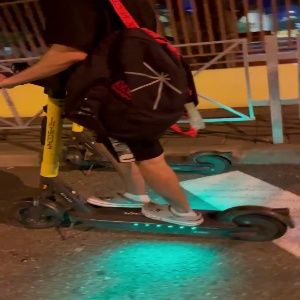human on a scooter: (1, 1, 295, 244)
